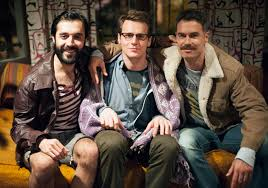Bad: (97, 10, 268, 187), (11, 10, 171, 186)
